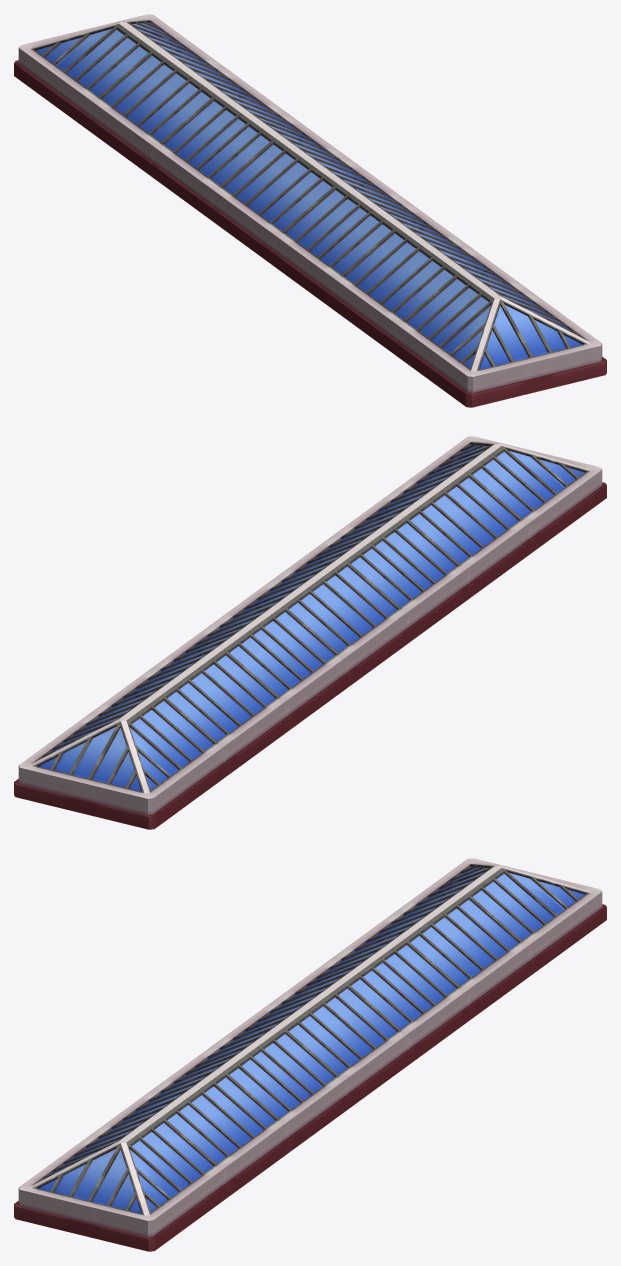
Rendered from Obstacle_SunRoof_RunAlong.FBX.
3 renders of one model, top to bottom at view 1: azimuth 30°, elevation 25°; view 2: azimuth 150°, elevation 25°; view 3: azimuth 330°, elevation 25°, orthographic.
Parts seen in each view (by area): view 1: Obstacle_SunRoof_RunAlong; view 2: Obstacle_SunRoof_RunAlong; view 3: Obstacle_SunRoof_RunAlong.
Part boxes in pixels (left/top/right/bottom): Obstacle_SunRoof_RunAlong: left=14, top=14, right=606, bottom=407; Obstacle_SunRoof_RunAlong: left=14, top=436, right=606, bottom=829; Obstacle_SunRoof_RunAlong: left=14, top=858, right=606, bottom=1251.
Bounding box in the file's own units: 14.06 × 6.12 × 79.04.
